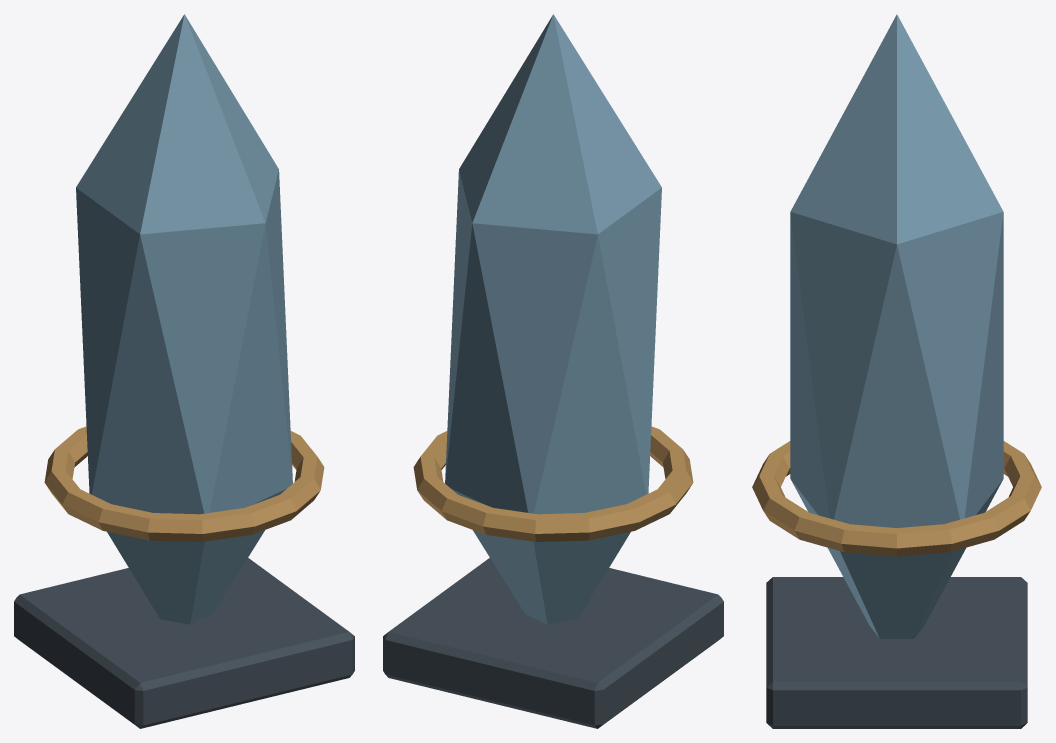
The model's file is SH10_L10_Pylon.fbx.
The picture shows the model from 3 angles, left to right: view 1: azimuth 30°, elevation 25°; view 2: azimuth 150°, elevation 25°; view 3: azimuth 270°, elevation 25°; orthographic projection. The views are drawn at different scales.
Visible parts, largest first — view 1: SH10_L10_Pylon; view 2: SH10_L10_Pylon; view 3: SH10_L10_Pylon.
Part boxes in pixels (left/top/right/bottom): SH10_L10_Pylon: left=14, top=14, right=354, bottom=728; SH10_L10_Pylon: left=383, top=14, right=723, bottom=728; SH10_L10_Pylon: left=752, top=14, right=1041, bottom=728.
Bounding box in the file's own units: 111 × 280 × 111.
